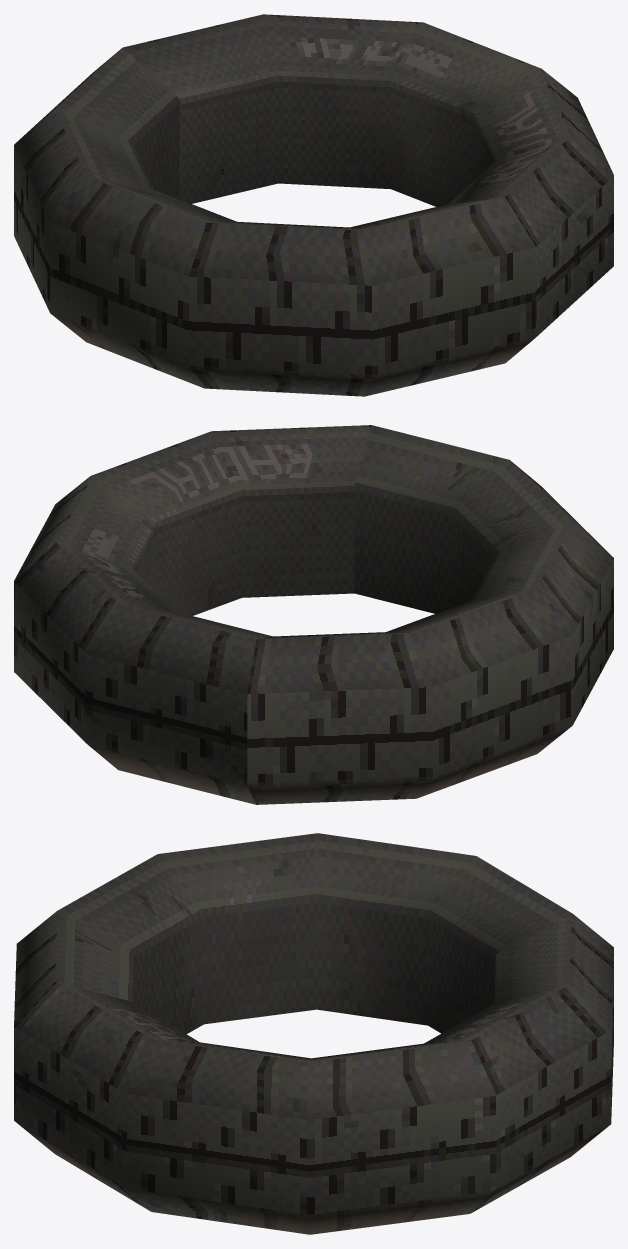
Rendered from tire_old.glb.
3 renders of one model, top to bottom at view 1: azimuth 30°, elevation 25°; view 2: azimuth 150°, elevation 25°; view 3: azimuth 270°, elevation 25°, orthographic. The views are drawn at different scales.
Visible parts, largest first — view 1: tire_old; view 2: tire_old; view 3: tire_old.
Part boxes in pixels (x1=…): tire_old: x1=14, y1=14, x2=613, y2=396; tire_old: x1=14, y1=425, x2=613, y2=804; tire_old: x1=14, y1=833, x2=613, y2=1234.
Bounding box in the file's own units: 0.6599 × 0.2 × 0.6305.
Materials: 1 (1 with a texture image).
